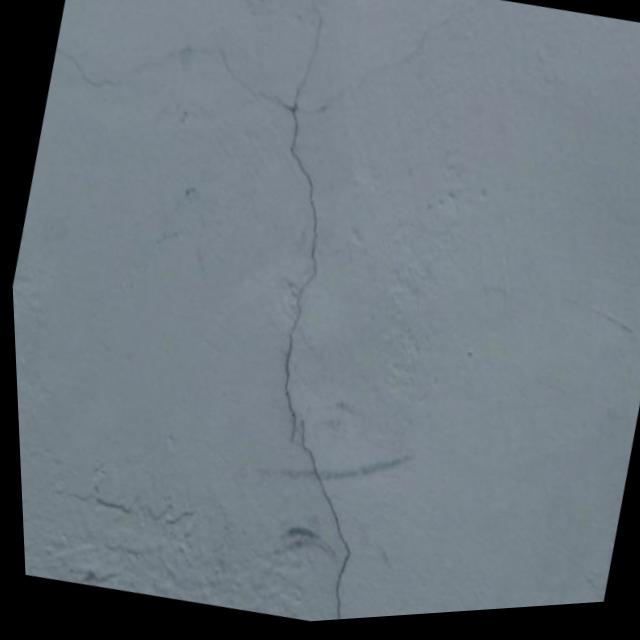Crack: (139, 40, 470, 633)
